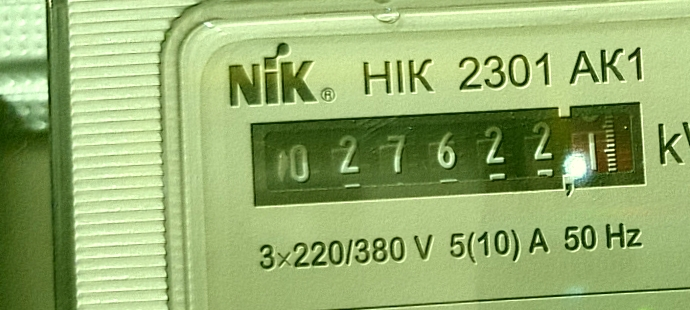0: (286, 141, 312, 184)
1: (583, 129, 601, 173)
2: (481, 124, 507, 166), (336, 133, 361, 176), (531, 119, 555, 162)
6: (434, 129, 458, 171)
7: (385, 132, 410, 177)
screen: (237, 92, 659, 214)
